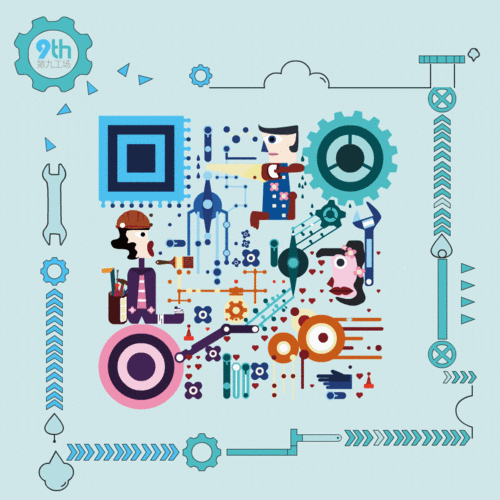QRCode: (97, 110, 401, 409)
